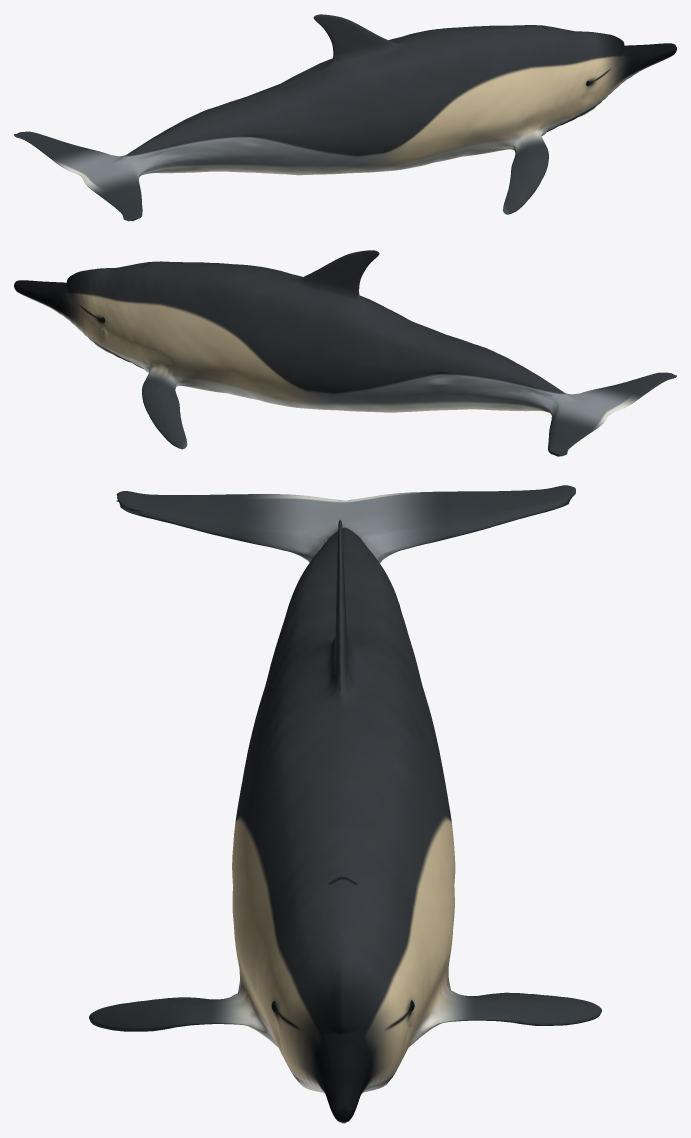
File: dolphin-corrected-v0663.glb
The picture shows the model from 3 angles, top to bottom: view 1: azimuth 30°, elevation 25°; view 2: azimuth 150°, elevation 25°; view 3: azimuth 270°, elevation 25°; orthographic projection. The views are drawn at different scales.
Parts seen in each view (by area): view 1: dolphin-supplied-body; view 2: dolphin-supplied-body; view 3: dolphin-supplied-body.
Part boxes in pixels (x1,y1,x2,y2): dolphin-supplied-body: (14, 14, 676, 221); dolphin-supplied-body: (14, 250, 676, 456); dolphin-supplied-body: (89, 485, 601, 1123).
Bounding box in the file's own units: 5.31 × 1.55 × 1.95.
2 materials, 1 textured.
